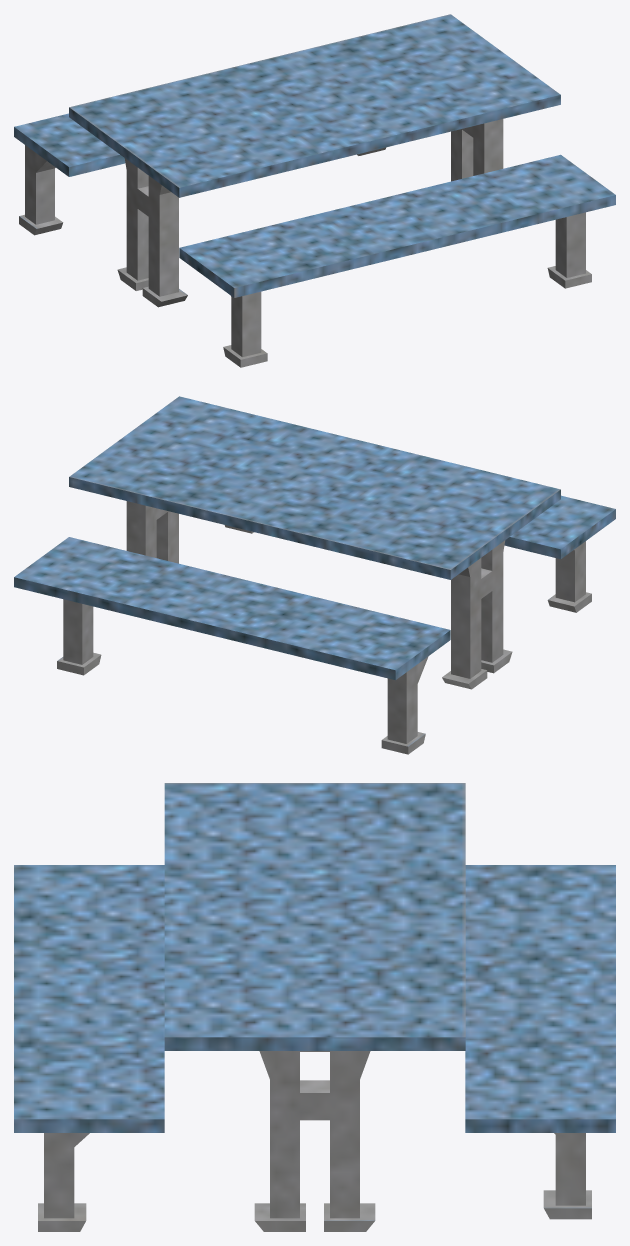
The model's file is Dining Table.fbx.
3 views of the same model, one above another, from view 1: azimuth 30°, elevation 25°; view 2: azimuth 150°, elevation 25°; view 3: azimuth 270°, elevation 25° (orthographic). The views are drawn at different scales.
Visible parts, largest first — view 1: Dinning Table; view 2: Dinning Table; view 3: Dinning Table.
Boxes of the visible parts, box(x1,y1,x2,y2) form: Dinning Table: box(14, 14, 615, 367); Dinning Table: box(14, 396, 615, 754); Dinning Table: box(14, 783, 615, 1231).
Size of the model in its own units: 202 by 75 by 200.
